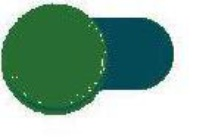Switch: (1, 1, 214, 139)
